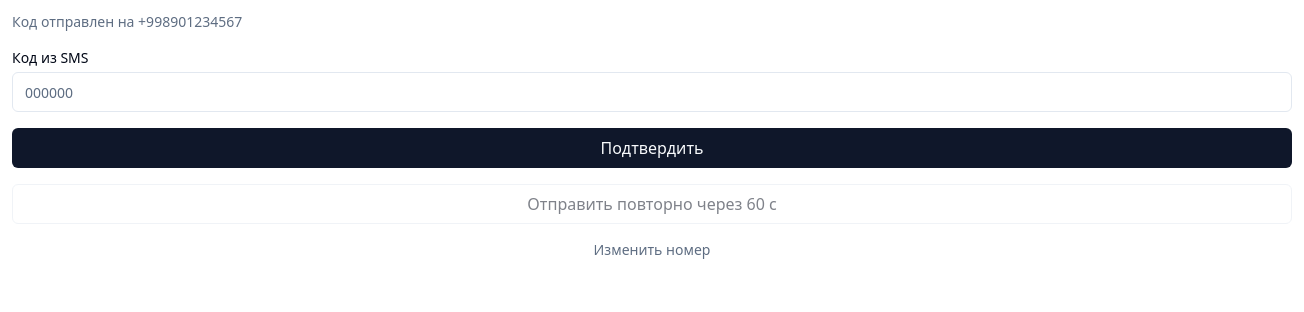
Test: shows the remaining attempts message on a wrong code and does not navigate
This screenshot has width=1304, height=312.
Type "123456" into the field labelled "Код из SMS".
click(652, 92); type("123456")  # box [12,72,1292,112]
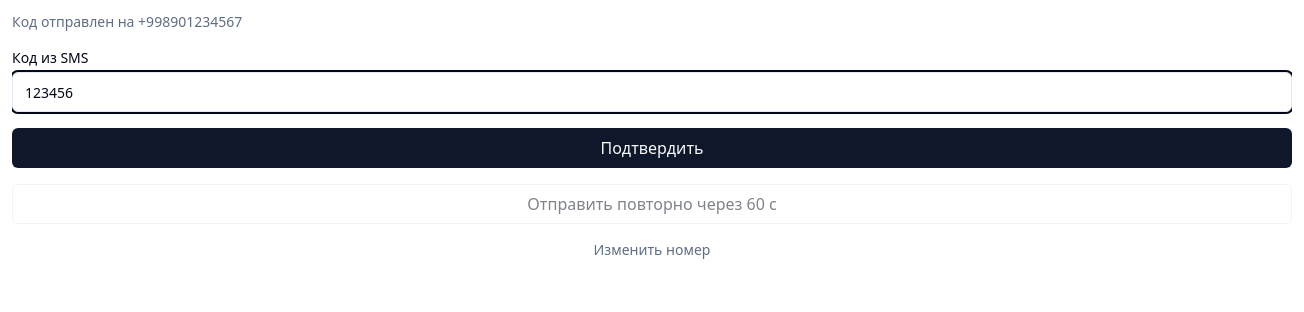
Click the button "Подтвердить".
click(652, 148)  # box [12,128,1292,168]
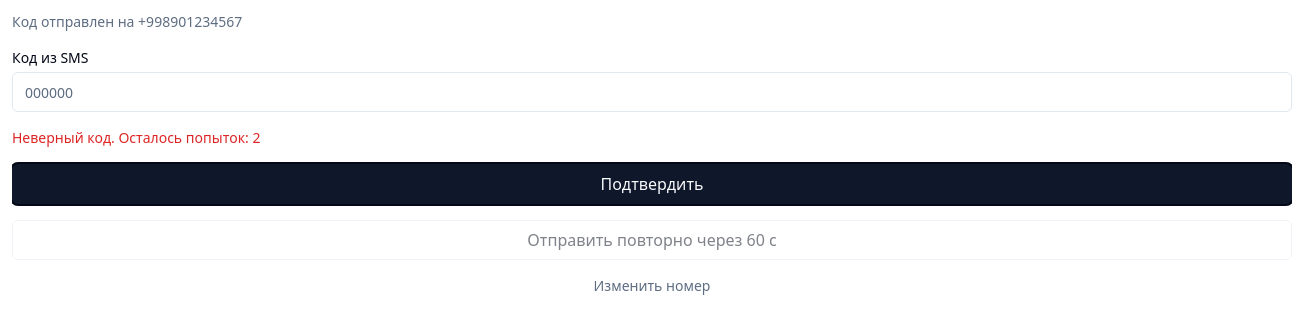
Check: the text "Неверный код. Осталось попыток: 2" is shown, box [12,128,260,147]
